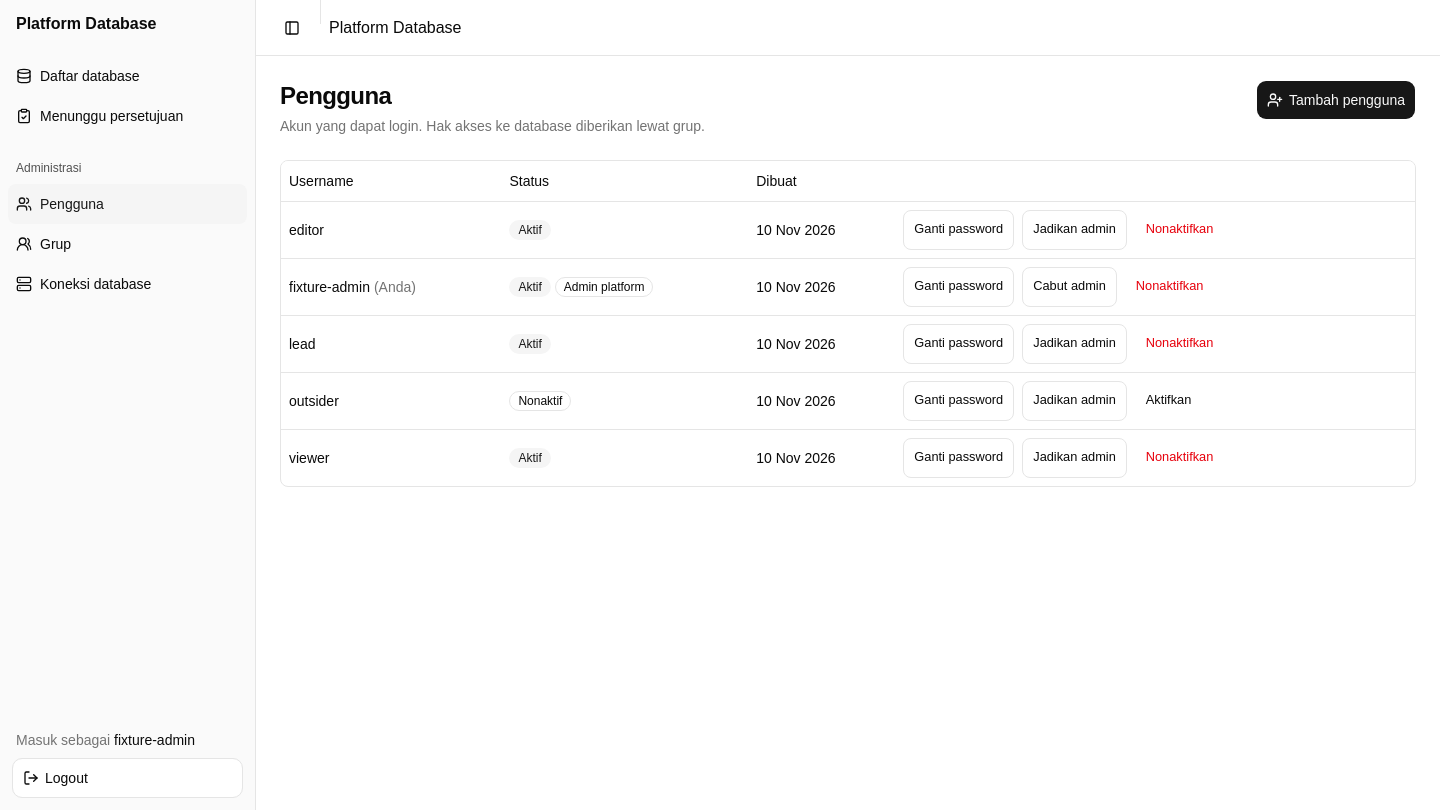
user administration › asks before deactivating and explains a leader refusal
Click the button "Nonaktifkan" in the row of "lead" at [1180, 344], box [1135,324,1224,364]
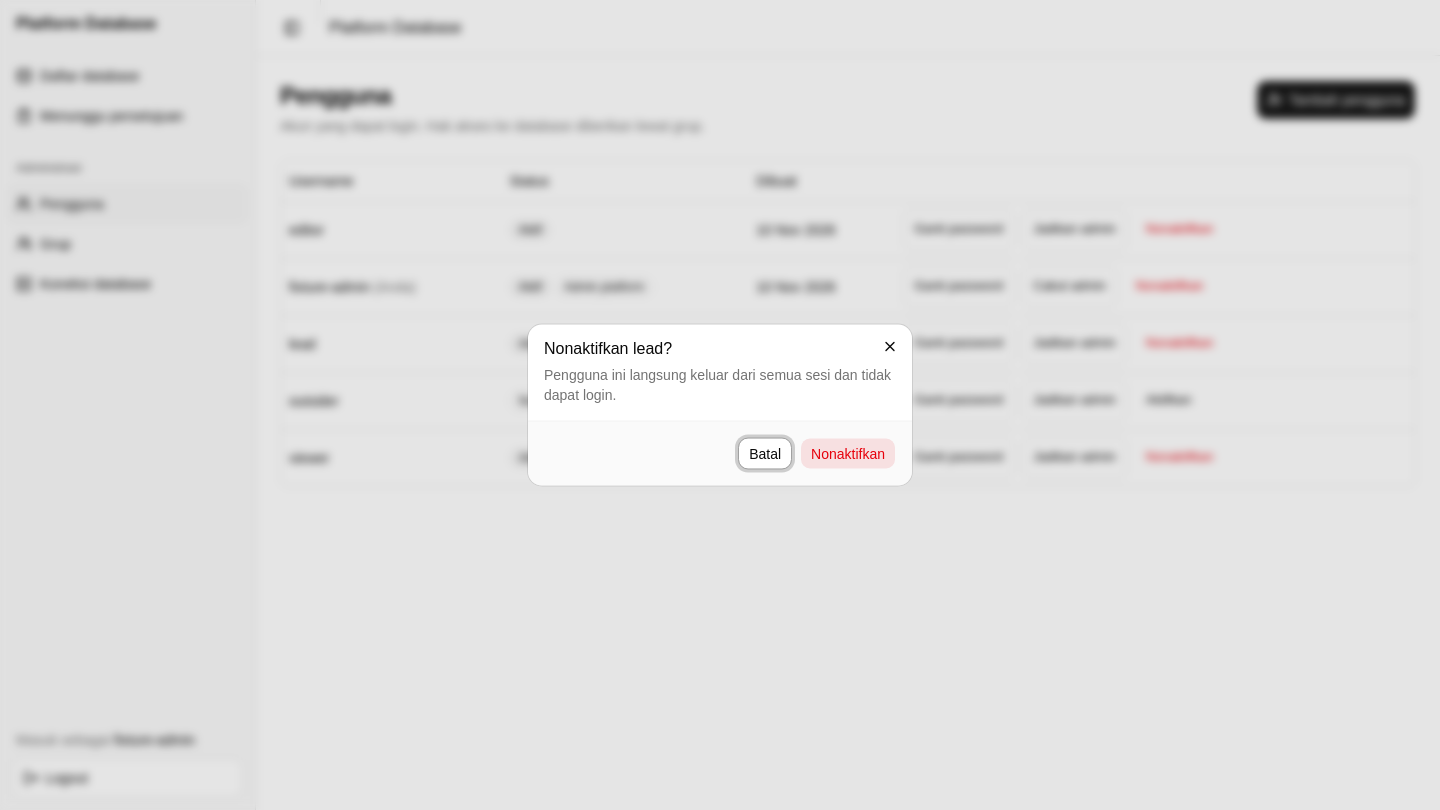
Click the button "Nonaktifkan" at [848, 454], box [800,438,896,470]
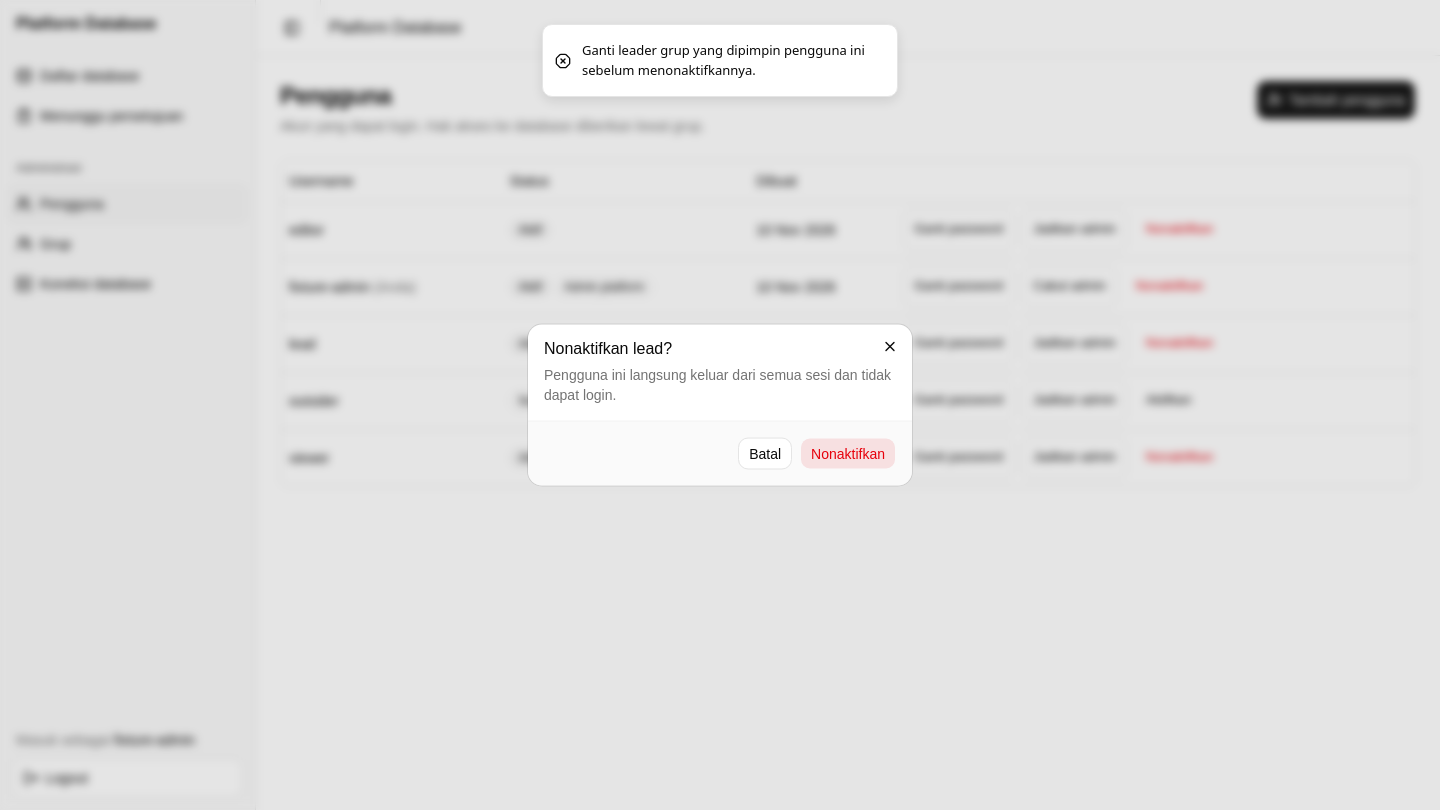
Expected: the text "Ganti leader grup yang dipimpin pengguna ini sebelum menonaktifkannya." is shown, [582,41,881,80]
